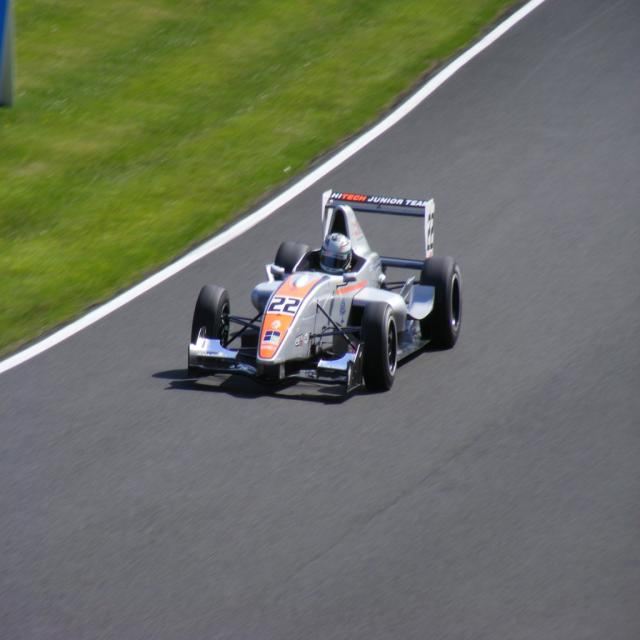car: (182, 188, 457, 405)
